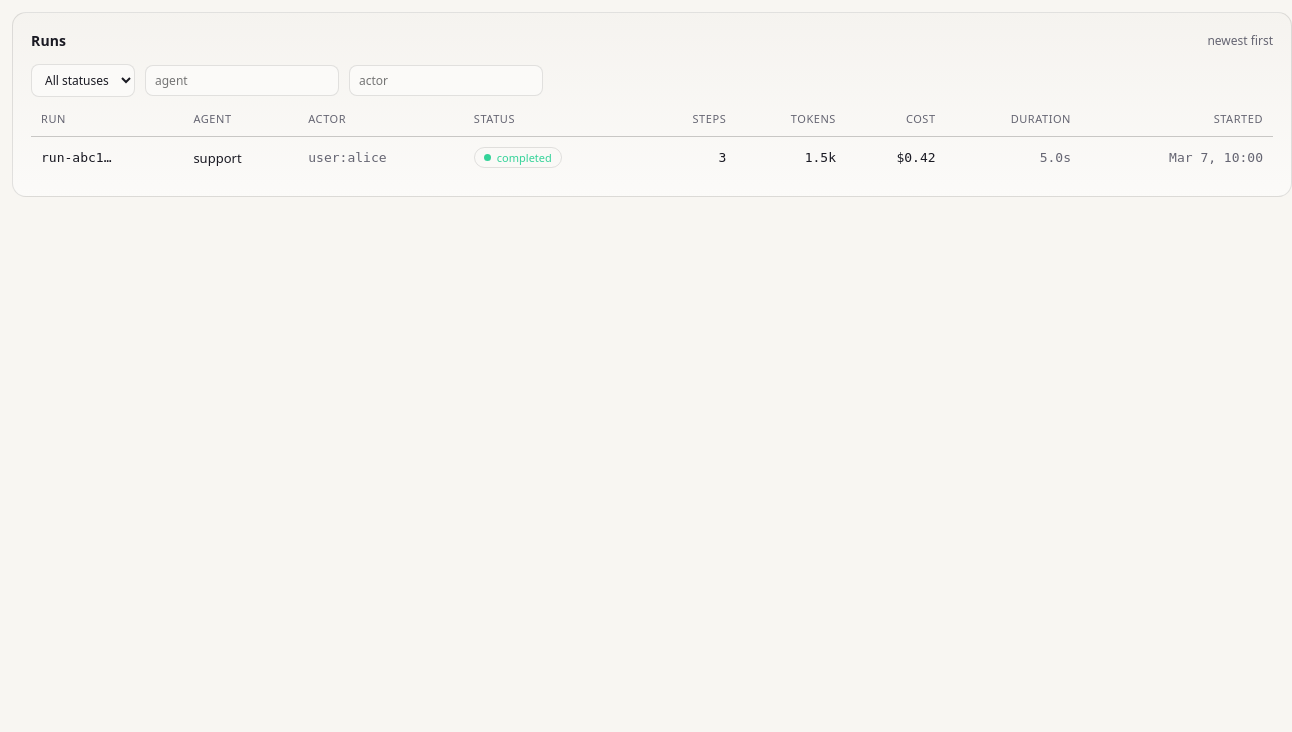
RunsSection › lists runs from governance/runs and opens a run detail on row click
Expected: the text "support" is shown, [183,136,298,178]
// Click the run row → the detail trace assembles (messages + tool calls + usage).
Click the text "run-abc1…".
click(107, 157)  # box [31,136,183,178]
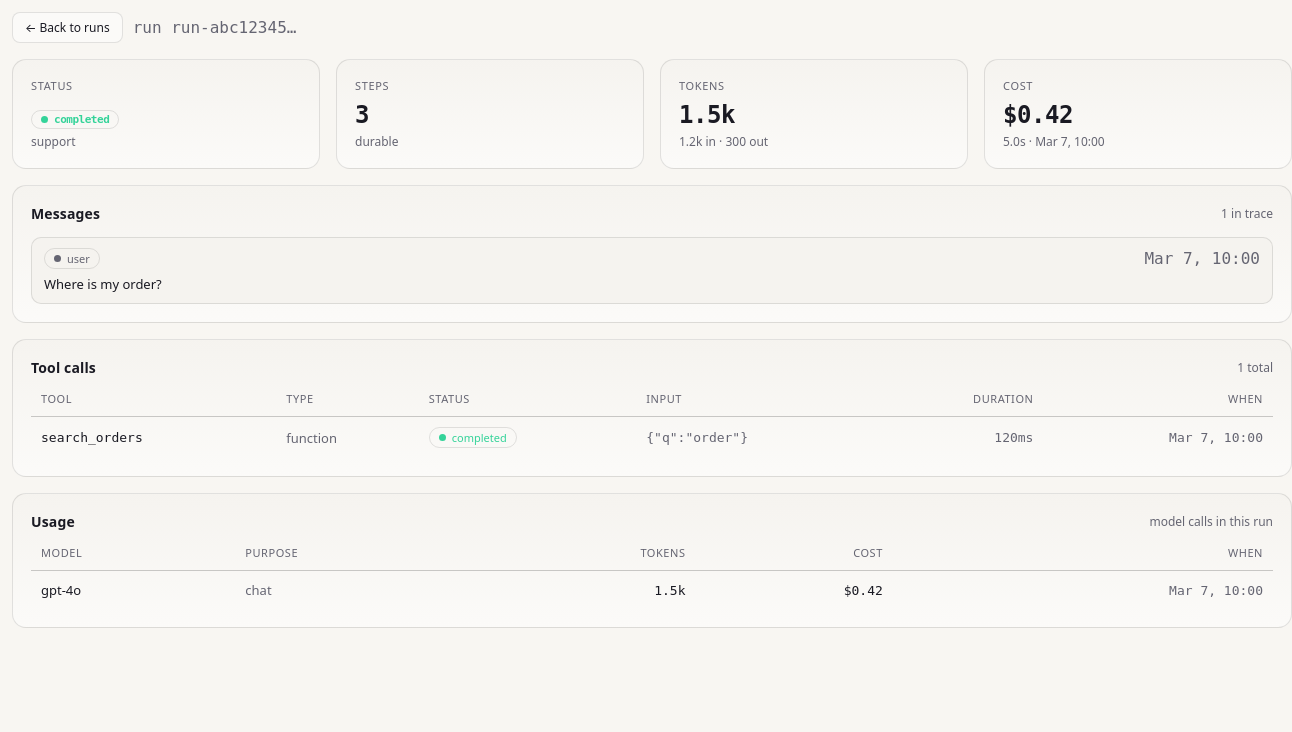
Expected: the text "Where is my order?" is shown, [44,275,162,293]
Expected: the button "← Back to runs" is shown, [12,12,123,43]
